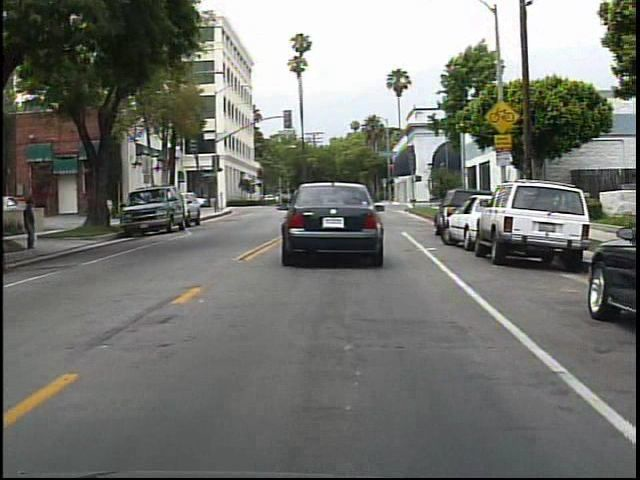person: (23, 196, 43, 253)
